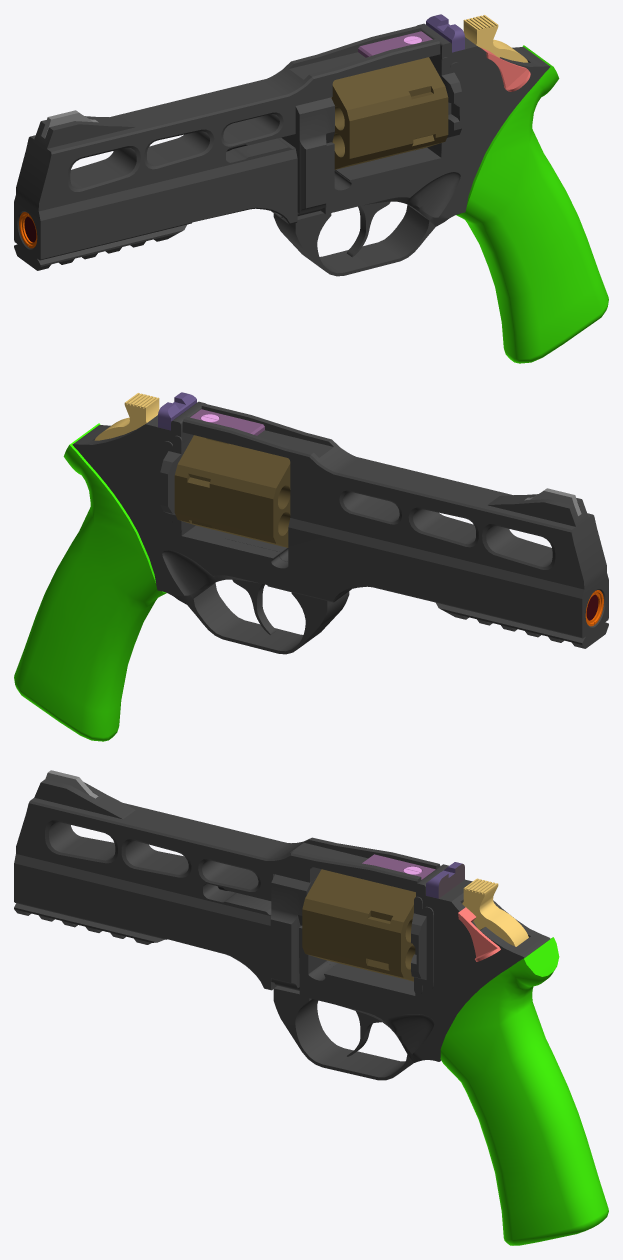
3 renders of one model, top to bottom at view 1: azimuth 30°, elevation 25°; view 2: azimuth 150°, elevation 25°; view 3: azimuth 330°, elevation 25°, orthographic.
Visible parts, largest first — view 1: Plane.006 (×2); view 2: Plane.006 (×2); view 3: Plane.006 (×2).
Boxes of the visible parts, box(x1,y1,x2,y2) form: Plane.006 (×2): box(14, 14, 608, 363); Plane.006 (×2): box(14, 392, 608, 741); Plane.006 (×2): box(14, 770, 608, 1245).
Size of the model in its own units: 484 by 286 by 68.81.
